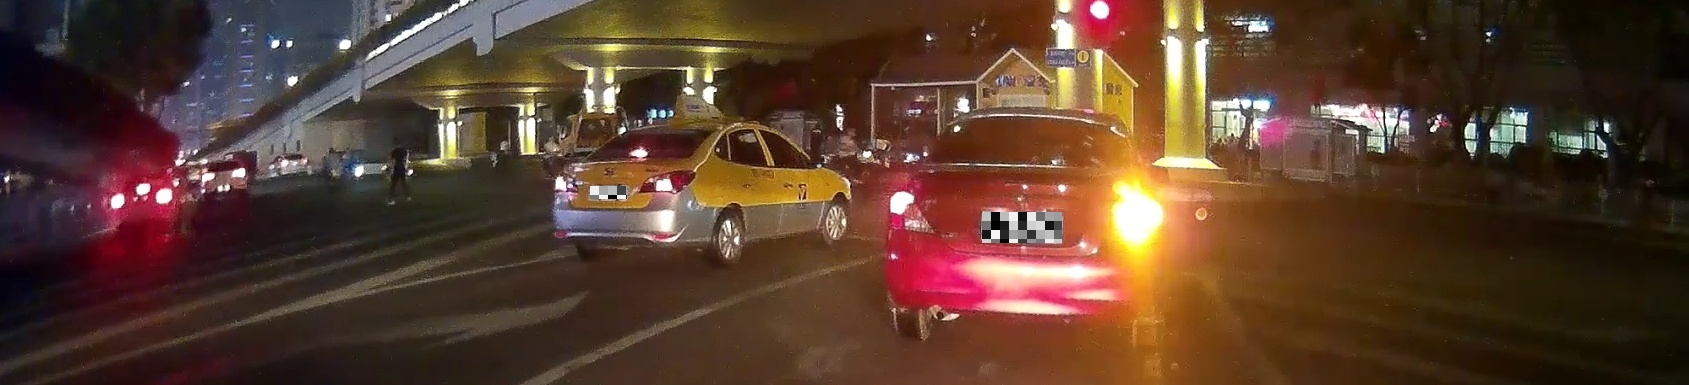L_light: (889, 191, 935, 234), (554, 171, 580, 192)
R_light: (1106, 196, 1141, 240), (638, 169, 696, 194)
T_light: (1015, 116, 1053, 127), (628, 149, 648, 159)
night-brake: (553, 123, 716, 269)
night-right: (885, 109, 1145, 341)
plate_1: (590, 185, 627, 200)
plate_2: (982, 212, 1062, 243)
